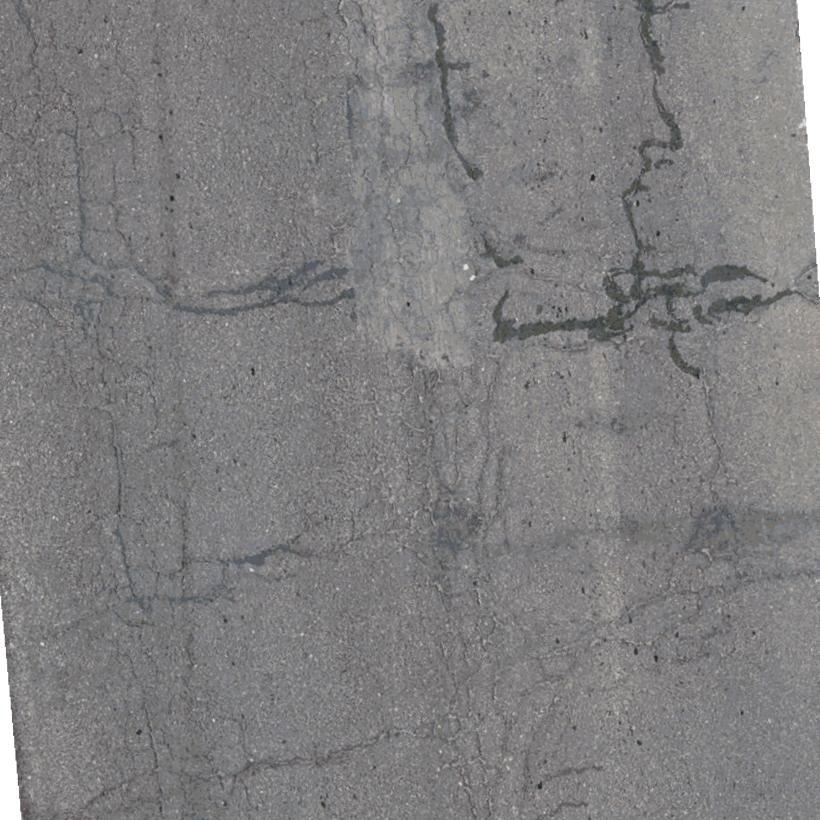GRIETA: (621, 0, 684, 257), (227, 727, 414, 797), (704, 386, 723, 505), (745, 570, 819, 592), (202, 278, 267, 298), (168, 303, 258, 314)
PIEL DE COCODRILO: (257, 0, 519, 552), (0, 0, 198, 567), (395, 501, 748, 819), (14, 512, 341, 651), (40, 597, 225, 819), (512, 254, 819, 385)
